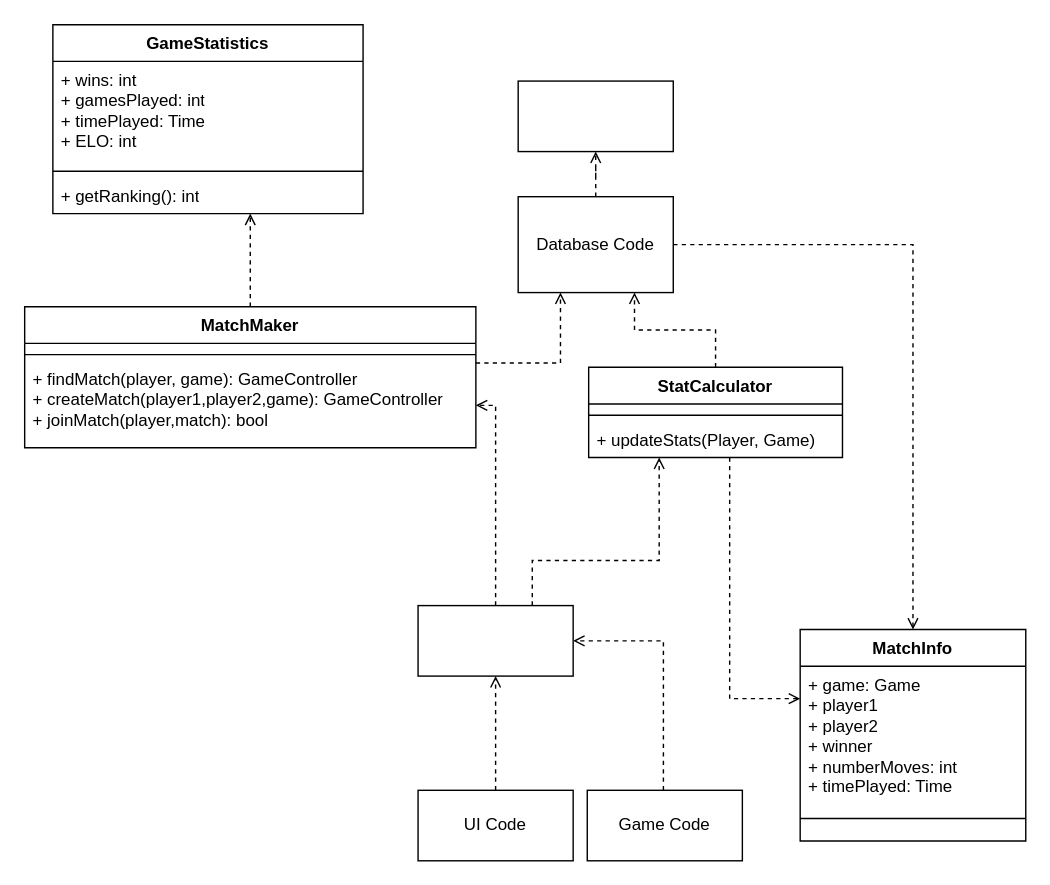
Some shapes in this 1050 by 885 pixel diagram are drawn without their labels. Here are the shapes that lost their labels. From the top down, the centre of each, then its label:
(595,116): Profile Code
(495,640): Server Code
